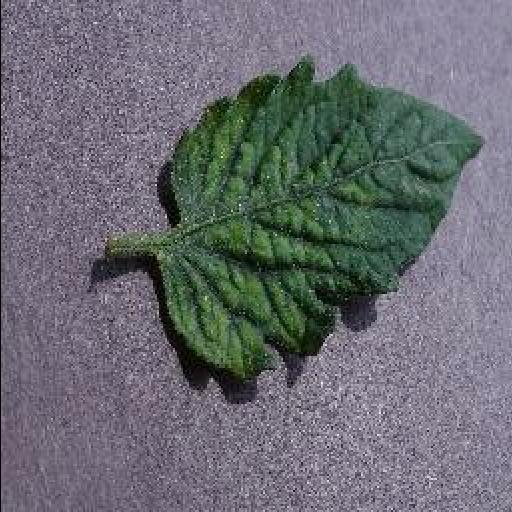Mosaic Virus: (156, 56, 488, 386)
